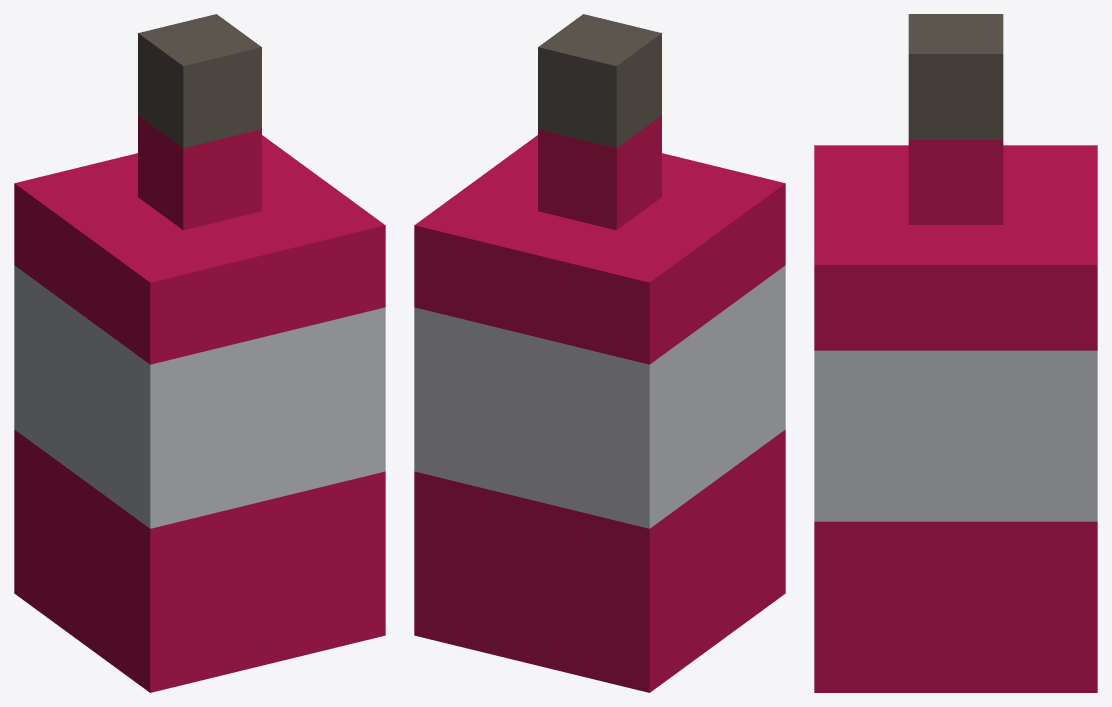
Rendered from bottle_a.obj.
The picture shows the model from 3 angles, left to right: view 1: azimuth 30°, elevation 25°; view 2: azimuth 150°, elevation 25°; view 3: azimuth 270°, elevation 25°; orthographic projection. The views are drawn at different scales.
Bounding box in the file's own units: 0.3 × 0.7 × 0.3.
1 material, 1 textured.
